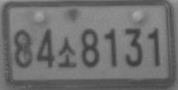1: (145, 26, 166, 67), (102, 26, 122, 67)
3: (124, 27, 143, 67)
4: (36, 28, 55, 68)
8: (80, 27, 100, 67), (13, 29, 33, 68)
소: (57, 36, 77, 68)
